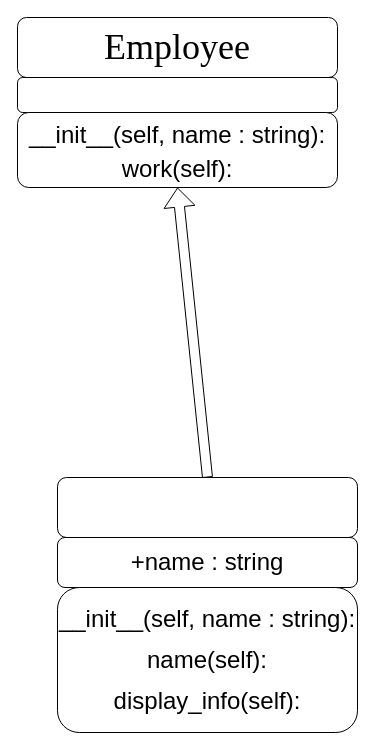
Some shapes in this 375 by 750 pixel diagram are drawn without their labels. Here are the shapes that lost their labels. From the top down, the box of each, then its label:
(16, 76, 338, 112): + name : string
(56, 476, 358, 538): Person
